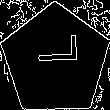L_W: (31, 44, 80, 77)
